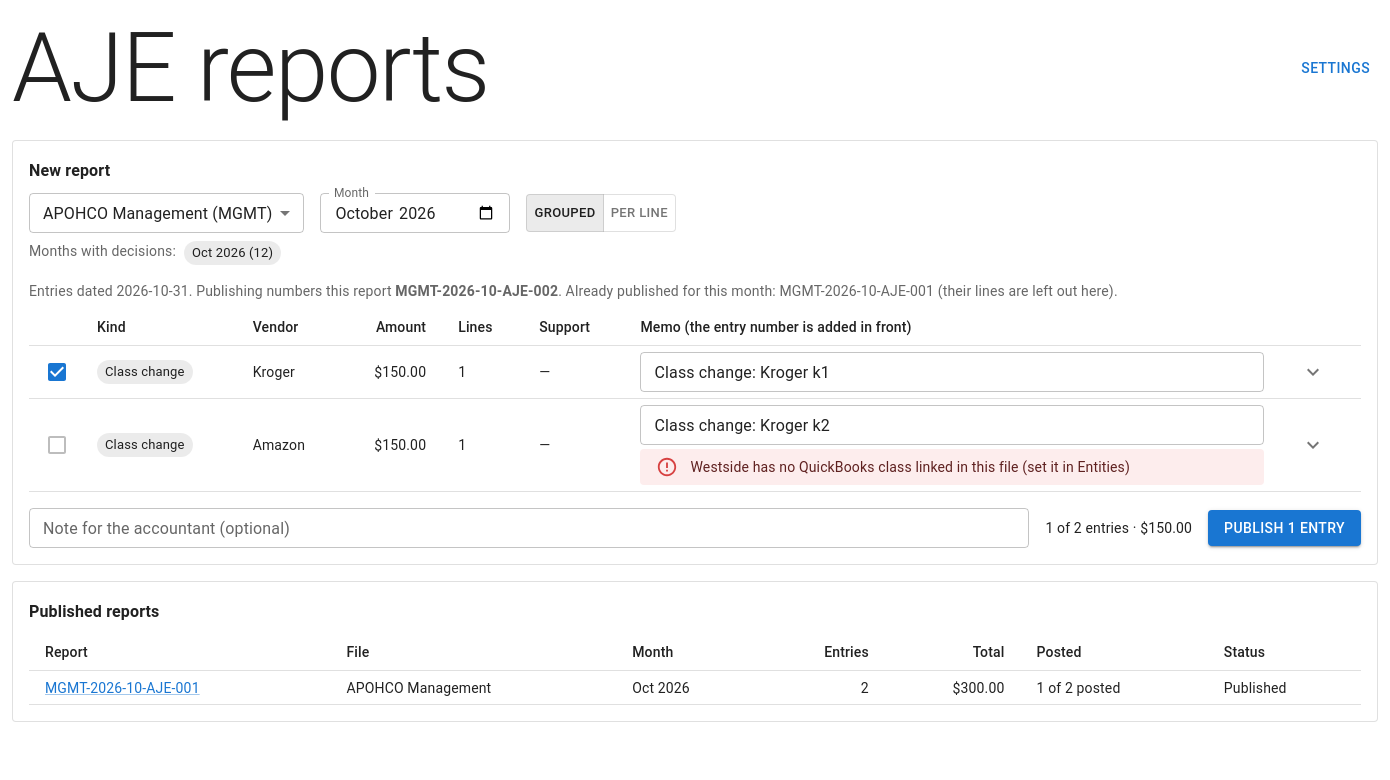
Test case: AJE reports page › publishes the chosen entries with edited memos and the draft keys
The width and height of the screenshot is (1390, 780).
Replace the text in the text box named "Memo" in the row of "Kroger" with "Groceries to Lebanon" at (952, 372), box x1=654 y1=360 x2=1250 y2=384
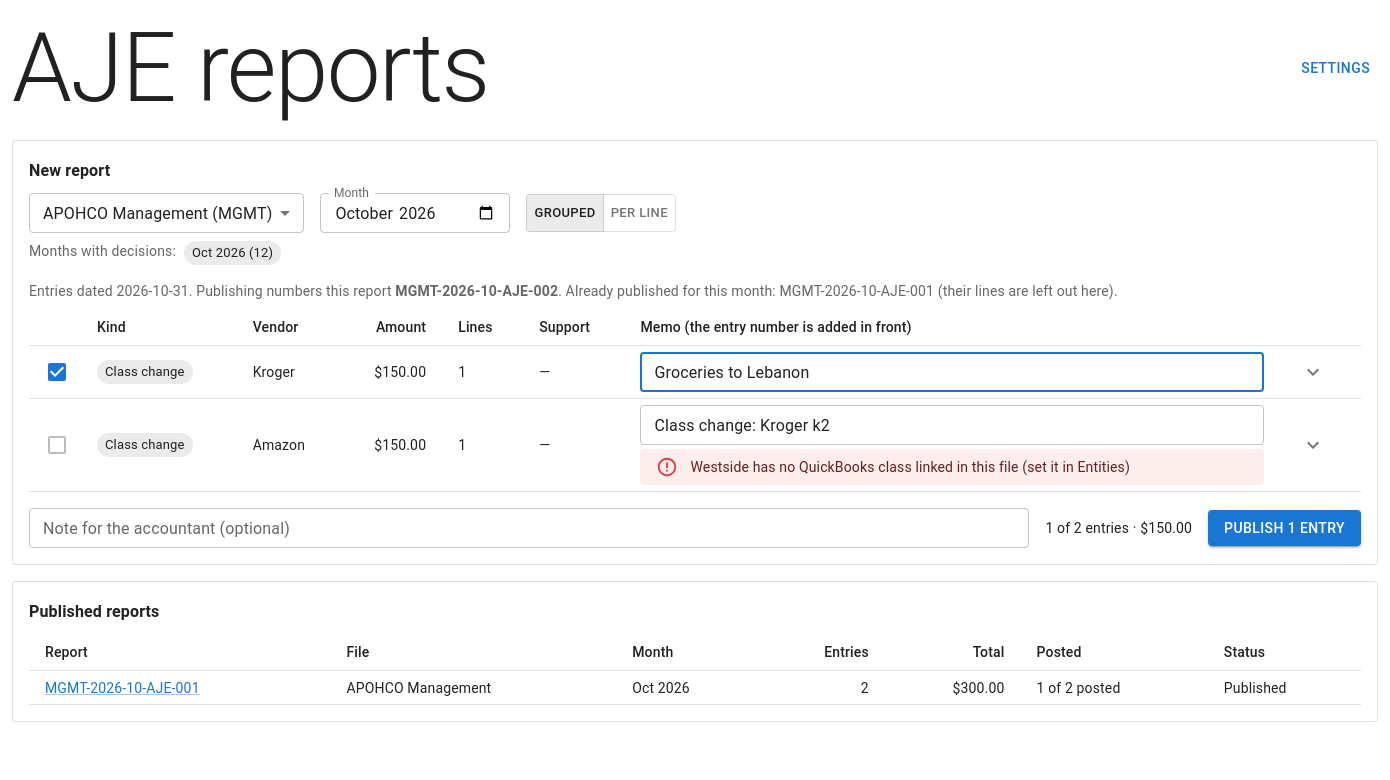
Click the button "Publish 1 entry".
click(1285, 528)  # box x1=1208 y1=510 x2=1361 y2=546
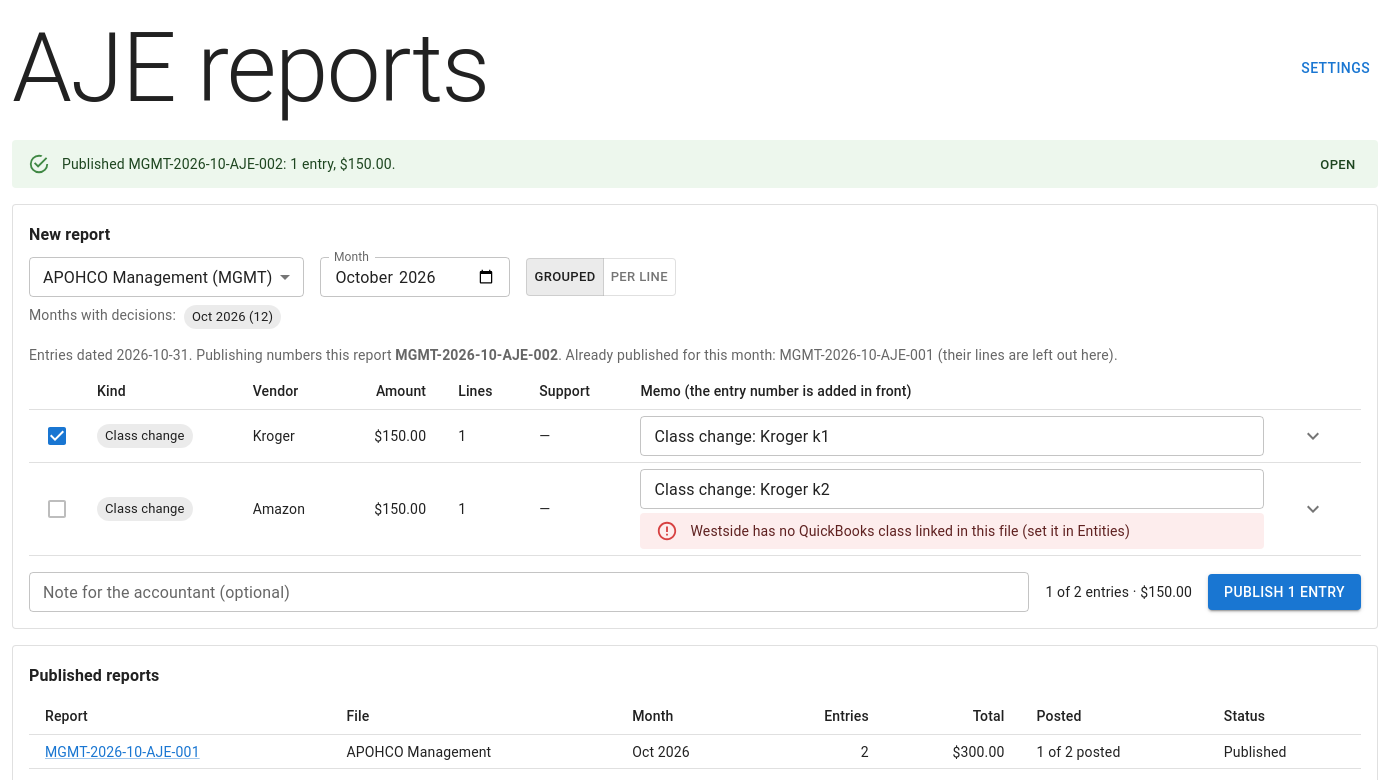
expect the text "Published MGMT-2026-10-AJE-002: 1 entry, $150.00." is shown: met, box x1=62 y1=156 x2=396 y2=172
